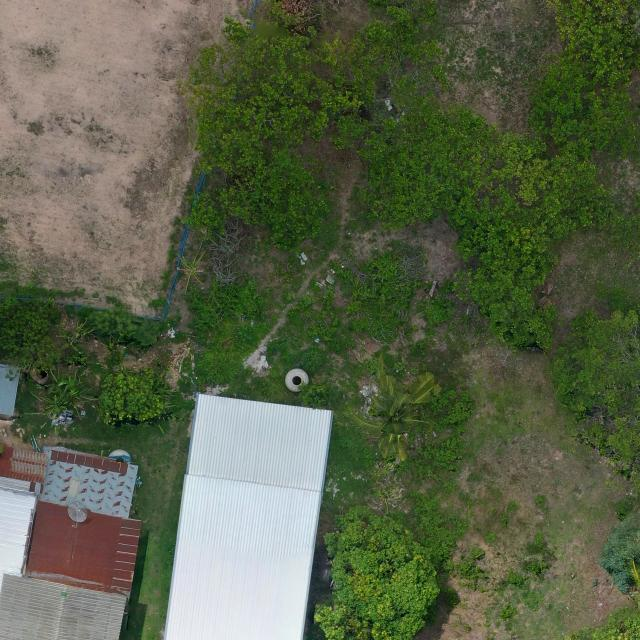Tree: (314, 502, 442, 640), (343, 351, 442, 463), (597, 509, 640, 598), (97, 371, 165, 427), (542, 603, 640, 640)
